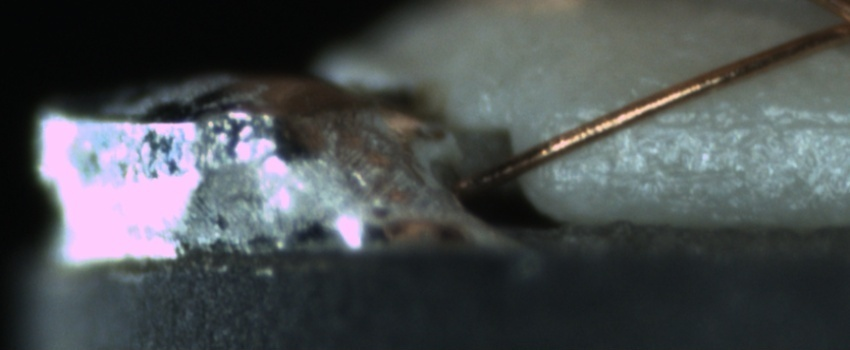CL: (806, 4, 849, 44)
DL: (569, 91, 845, 150)
